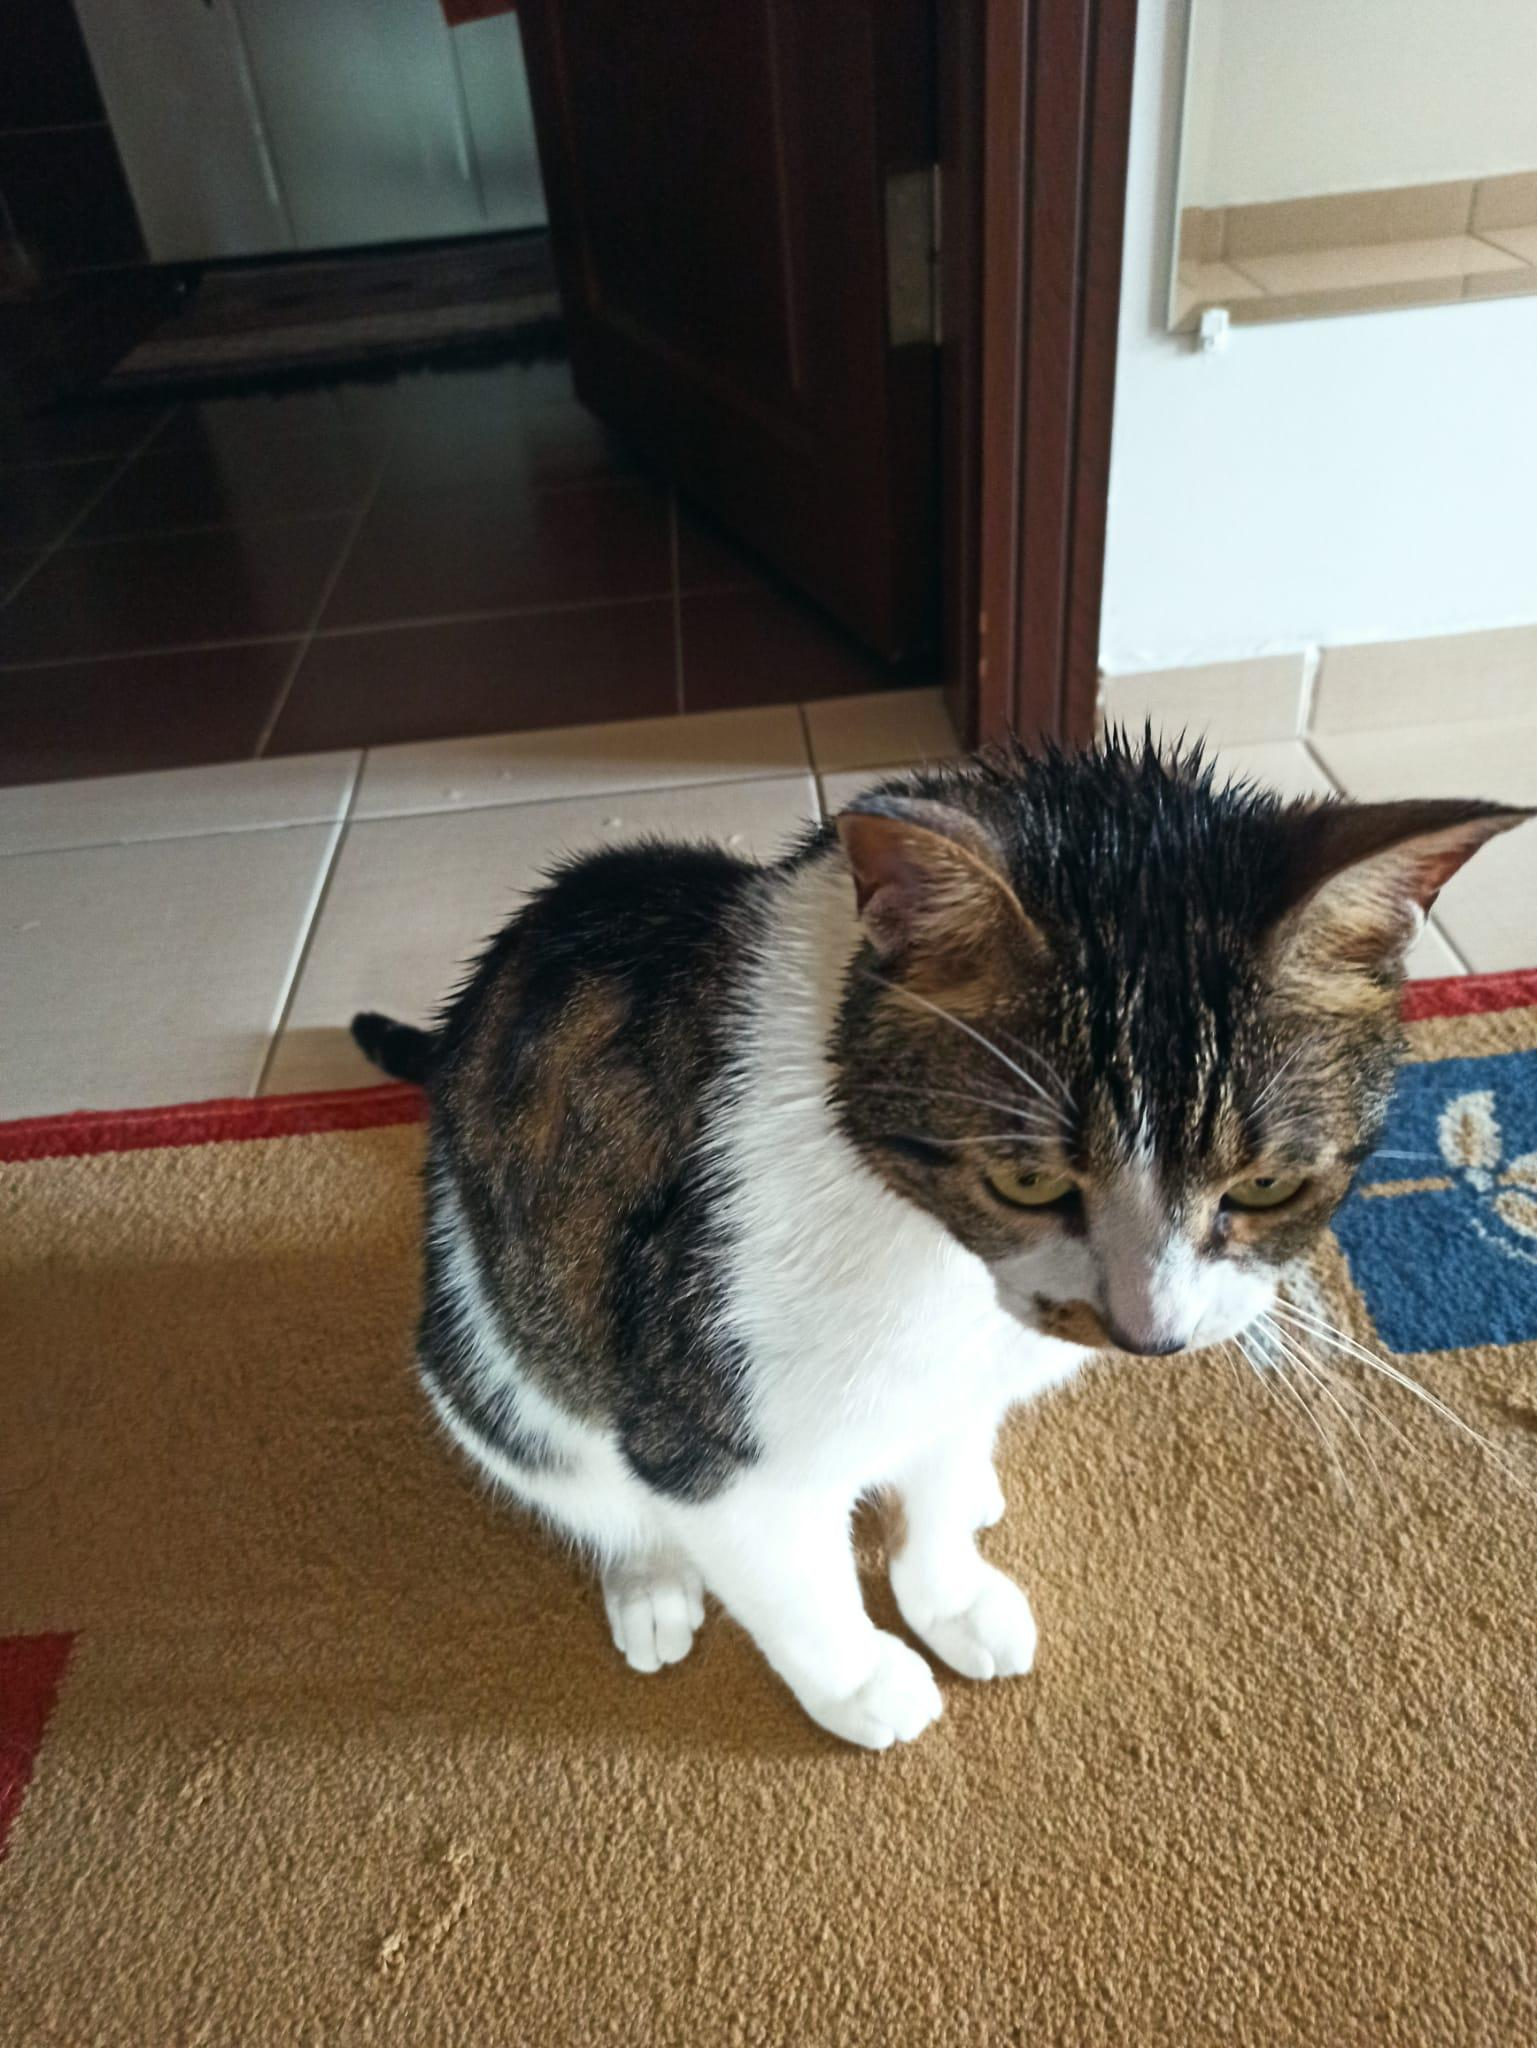kedo: (360, 788, 1519, 1738)
